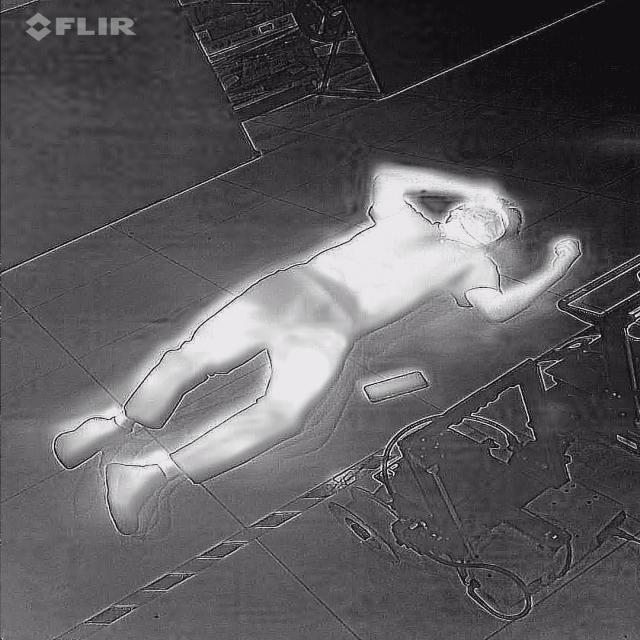Victim: (42, 162, 586, 534)
